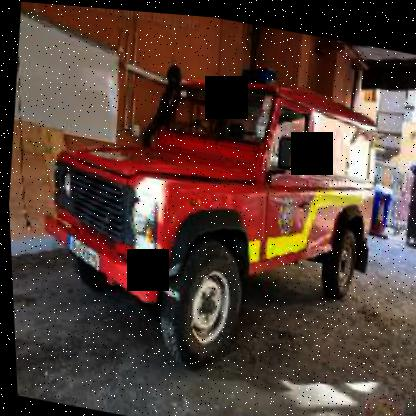emergency: (25, 31, 409, 373)
